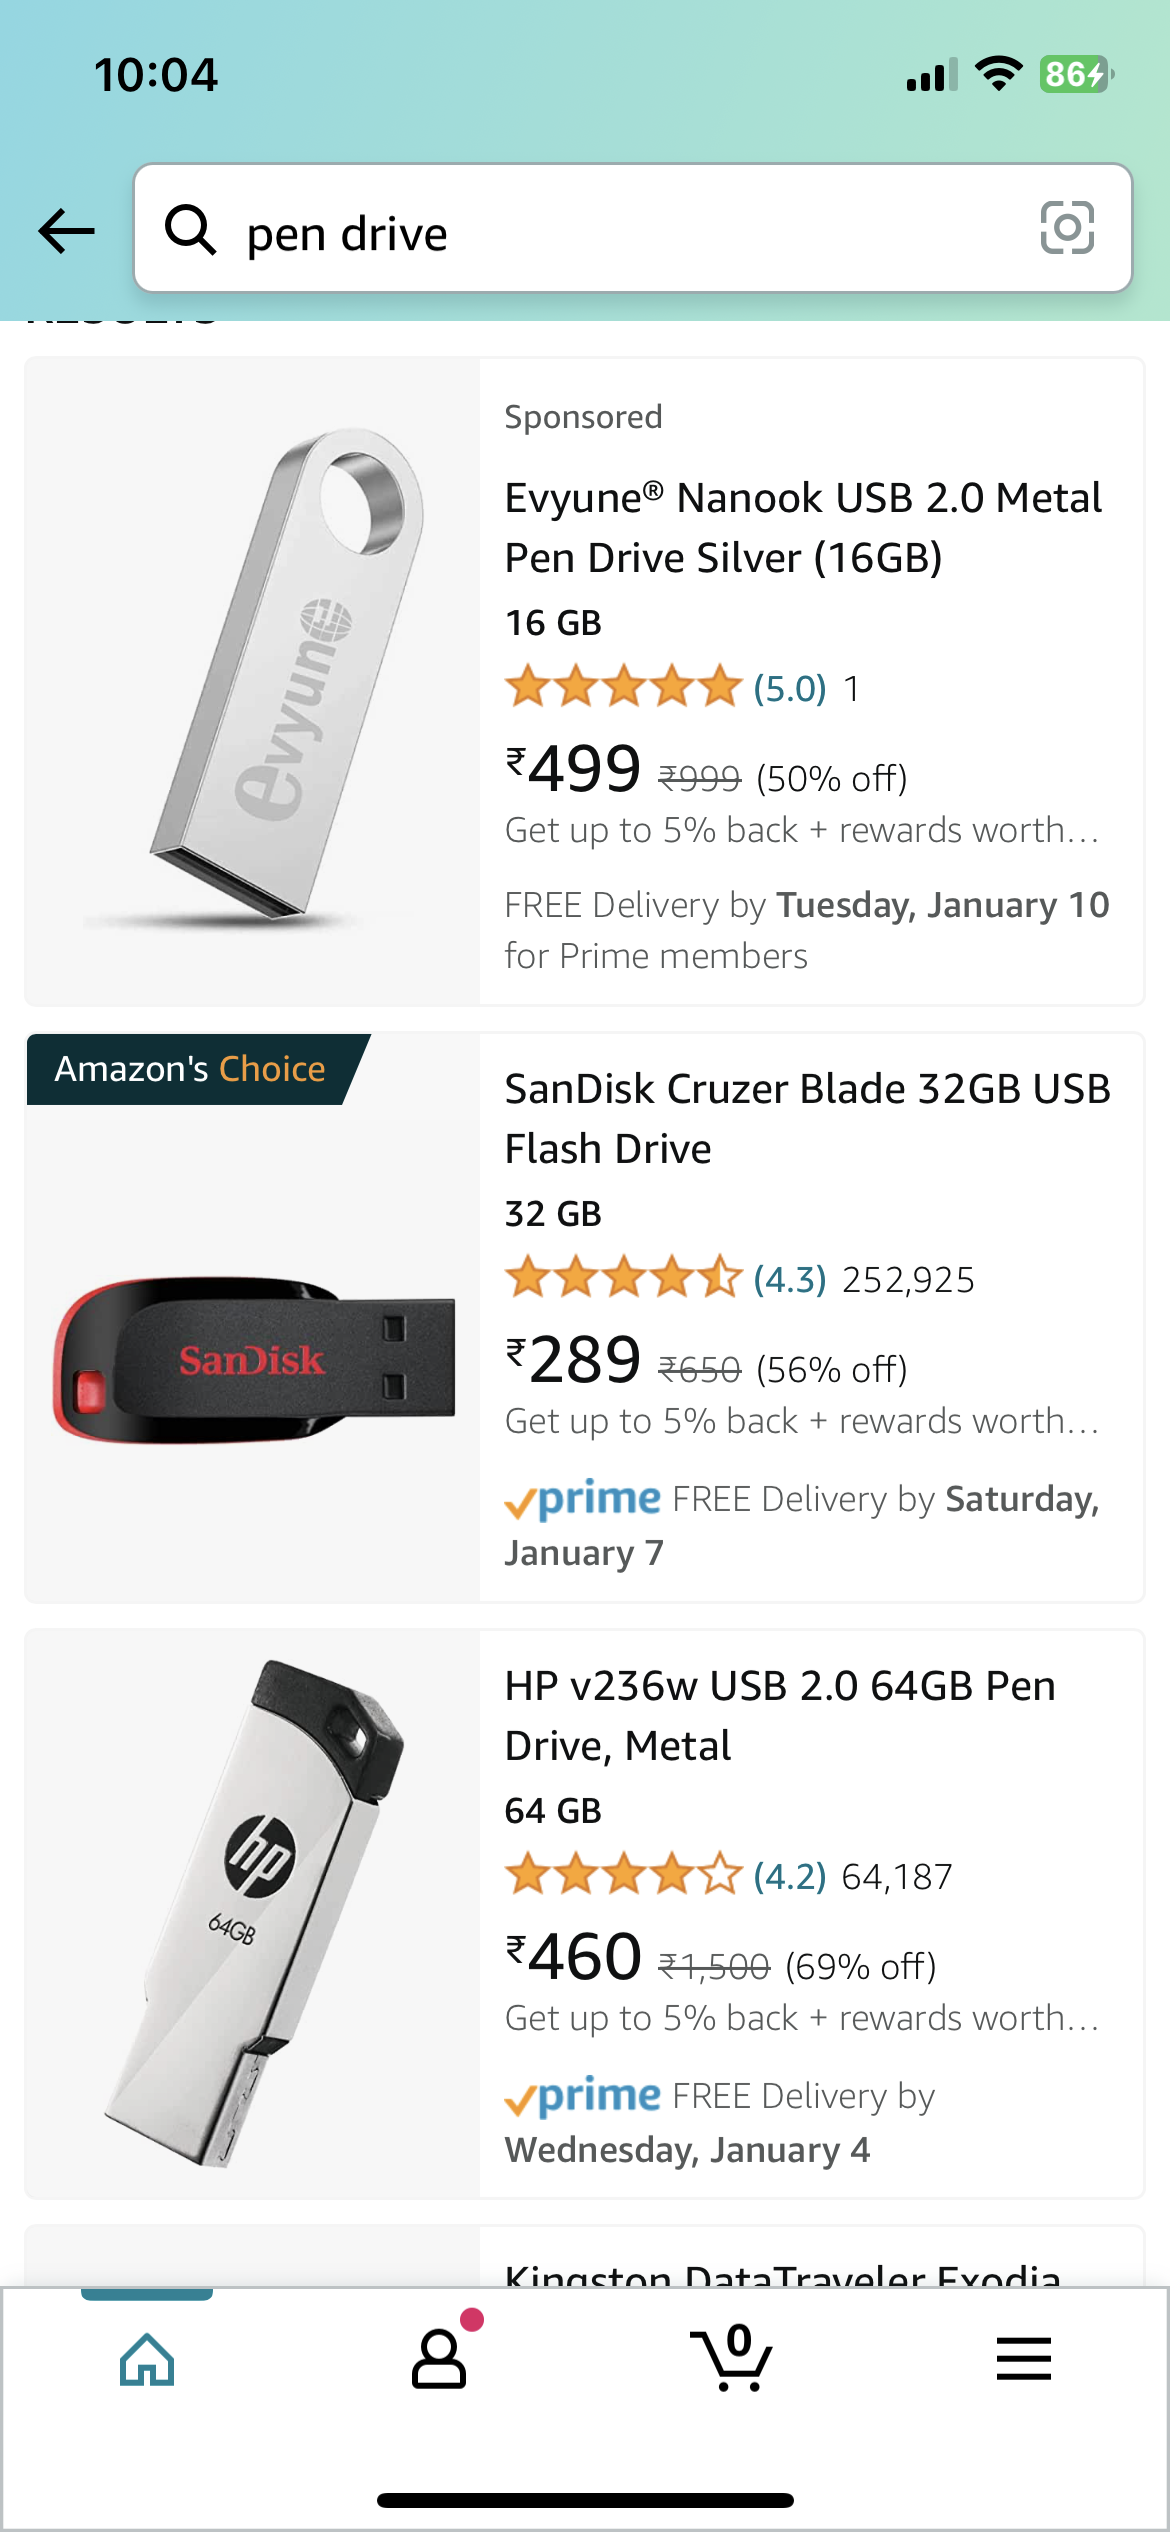PenDrive: (98, 1658, 403, 2174), (140, 430, 432, 925), (52, 1272, 458, 1452)
